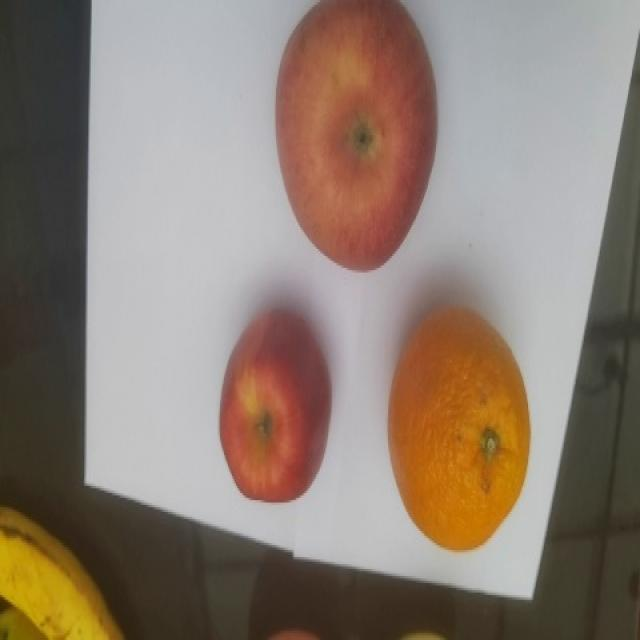Apple: (274, 0, 438, 272), (218, 307, 332, 502)
Banana: (0, 504, 125, 639)
Orange: (386, 305, 531, 551)
